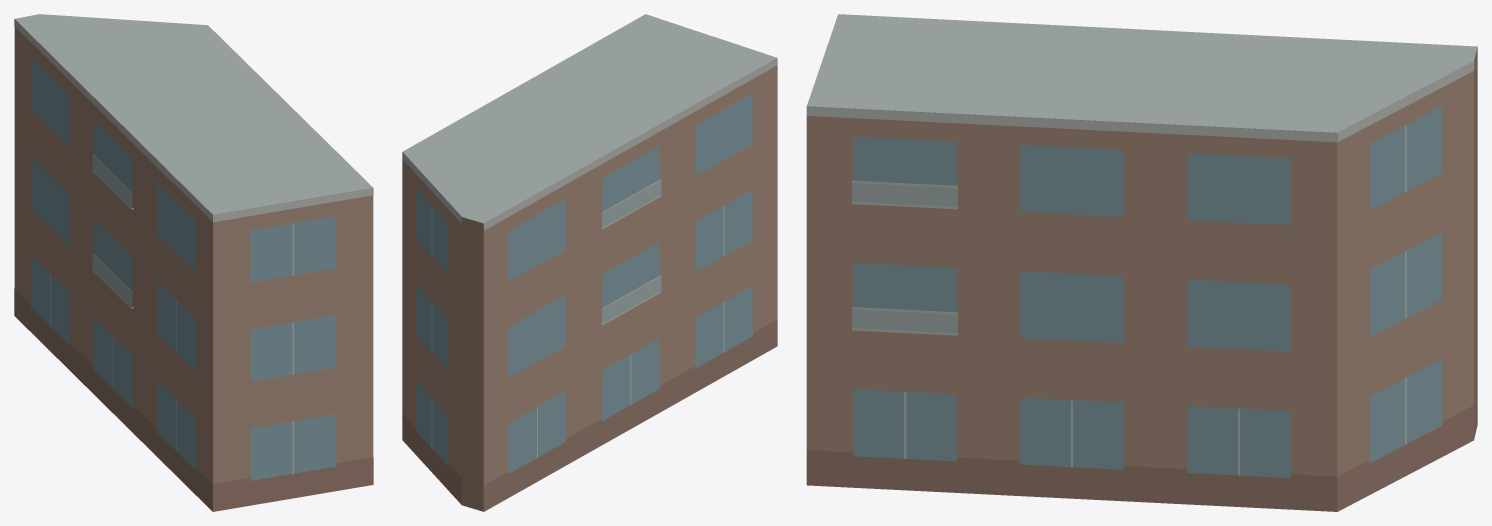
File: survey-upis-32490866.glb
The picture shows the model from 3 angles, left to right: view 1: azimuth 30°, elevation 25°; view 2: azimuth 150°, elevation 25°; view 3: azimuth 270°, elevation 25°; orthographic projection. The views are drawn at different scales.
Parts seen in each view (by area): view 1: survey-upis-32490866.tmp; view 2: survey-upis-32490866.tmp; view 3: survey-upis-32490866.tmp.
Part boxes in pixels (x1,y1,x2,y2): survey-upis-32490866.tmp: [14, 14, 373, 511]; survey-upis-32490866.tmp: [402, 14, 777, 511]; survey-upis-32490866.tmp: [806, 14, 1477, 511].
Bounding box in the file's own units: 6.53 × 9.7 × 15.57.
